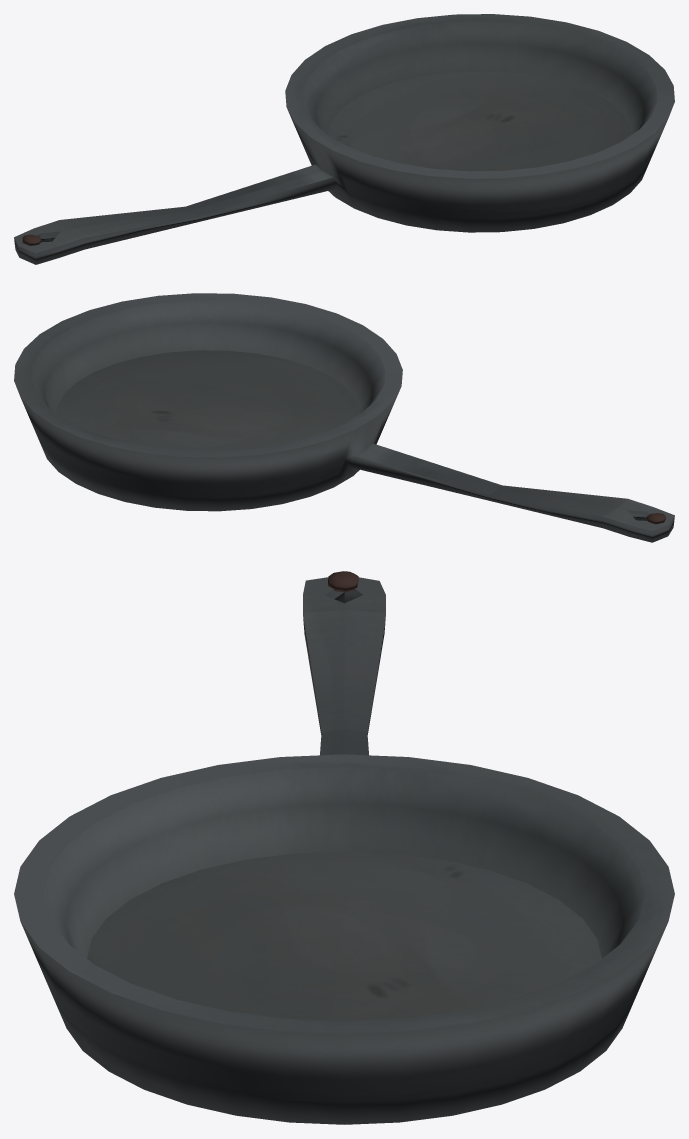
Rendered from Fryingpan.fbx.
3 views of the same model, one above another, from view 1: azimuth 30°, elevation 25°; view 2: azimuth 150°, elevation 25°; view 3: azimuth 270°, elevation 25° (orthographic). The views are drawn at different scales.
Visible parts, largest first — view 1: Cylinder.017; view 2: Cylinder.017; view 3: Cylinder.017.
Boxes of the visible parts, x1,y1,x2,y2 form: Cylinder.017: (14,14,674,264); Cylinder.017: (14,293,674,542); Cylinder.017: (14,571,674,1124).
Size of the model in its own units: 164 by 16.31 by 87.99.
